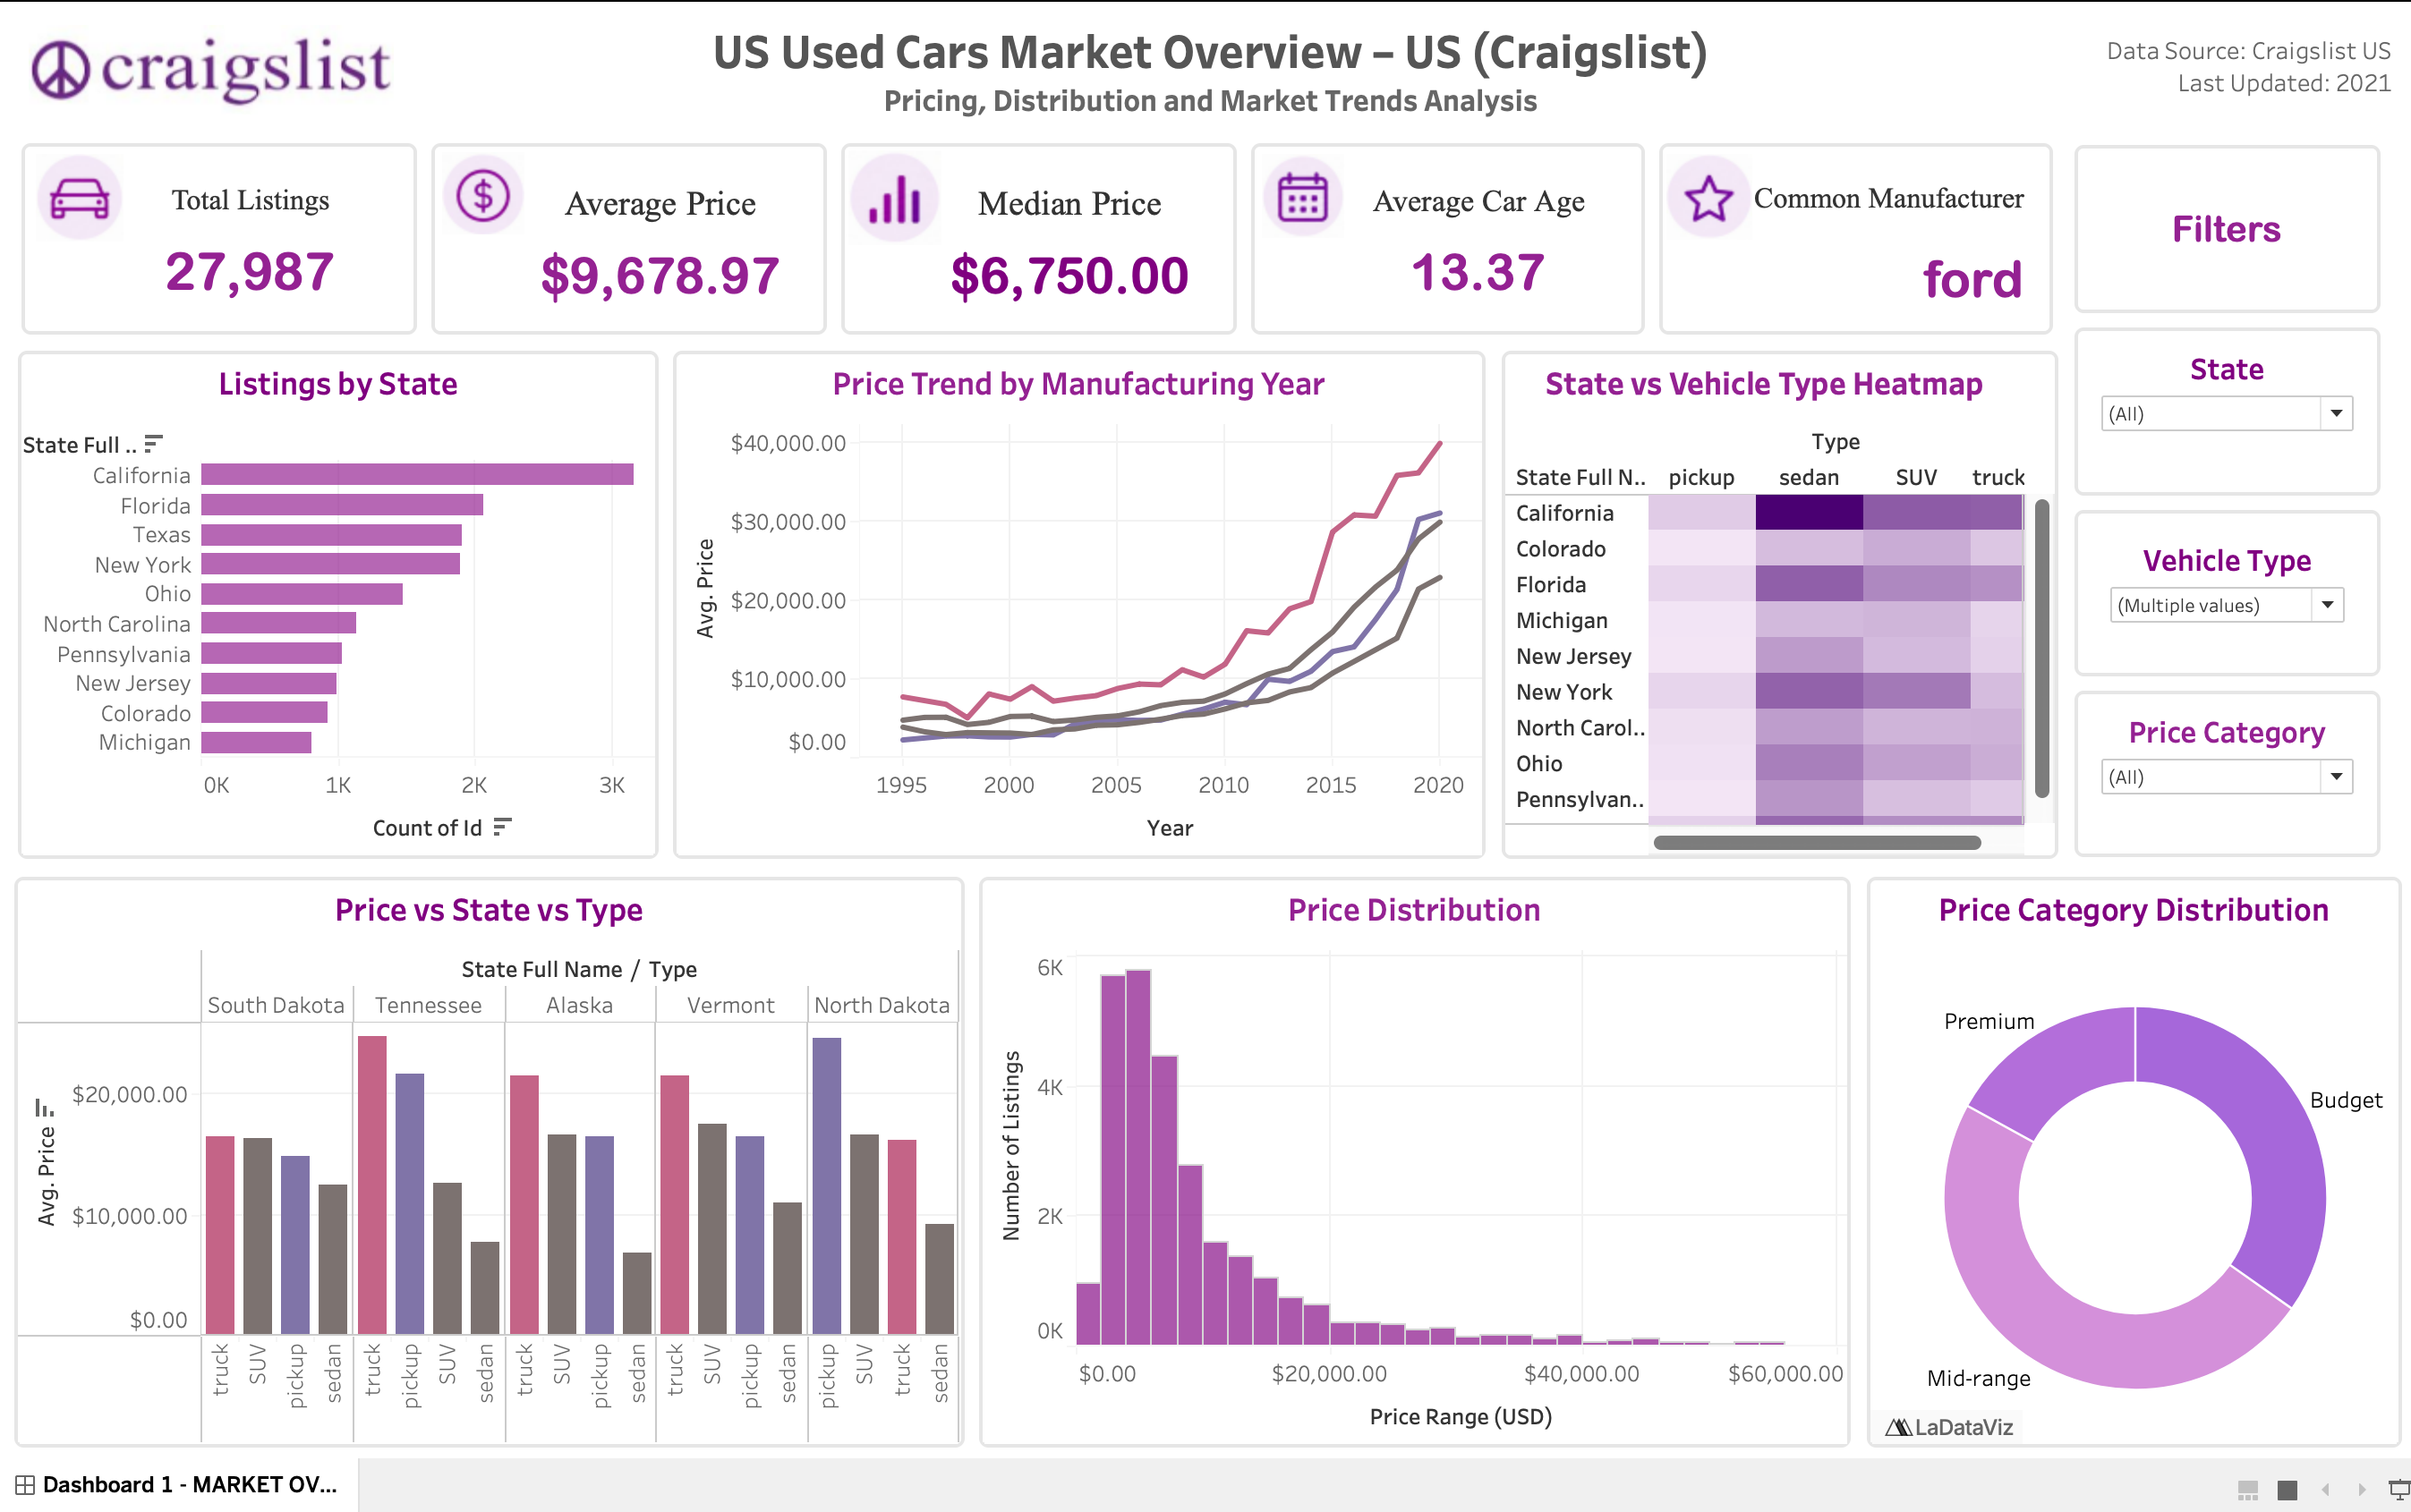

This screenshot's page, from the dashboard's own definition file:
{"tool":"tableau","page":{"name":"Dashboard 1 - MARKET OVERVIEW","canvas":[1000,1000],"units":"permille","ordinal":0},"visuals":[{"type":"text","box":[0.8,1.2,999.2,89.7]},{"type":"text","box":[816.8,7.5,173.7,73.5]},{"type":"image","box":[5.9,9.8,988.2,980.3]},{"type":"image","param":"Image/PHOTO-2026-04-28-11-33-36.jpg","box":[11.8,10,150.9,74.7]},{"type":"worksheet","title":"Total Listings","mark":"Automatic","box":[5.9,92.1,169.4,141.3]},{"type":"worksheet","title":"Average Price","mark":"Automatic","box":[175.3,92.1,169.4,141.3]},{"type":"worksheet","title":"Median Price","mark":"Automatic","box":[344.7,92.1,169.4,141.3]},{"type":"worksheet","title":"Average Car Age","mark":"Automatic","box":[514,92.1,168.6,141.3]},{"type":"worksheet","title":"Common Manufacturer","mark":"Automatic","box":[682.7,92.1,168.6,141.3]},{"type":"text","box":[854.3,93.4,132.4,125.3]},{"type":"image","param":"Image/WhatsApp Image 2026-04-28 at 13.28.17.jpeg","box":[350.9,101.5,46.6,65.3]},{"type":"image","param":"Image/WhatsApp Image 2026-04-28 at 13.27.53.jpeg","box":[182.7,102.7,37.5,57.2]},{"type":"image","param":"Image/WhatsApp Image 2026-04-28 at 13.27.31.jpeg","box":[14.5,103.9,37.5,60.7]},{"type":"image","param":"Image/WhatsApp Image 2026-04-28 at 13.28.37.jpeg","box":[521.4,105,36.7,57.2]},{"type":"image","param":"Image/WhatsApp Image 2026-04-28 at 13.28.55.jpeg","box":[688.8,105,37.5,59.5]},{"type":"image","param":"Image/PHOTO-2026-04-28-12-59-34.jpg","box":[670.6,114.6,56.5,98.4]},{"type":"filter","title":"Listings by State","param":"[federated.0viap53108bj6p1gal3fa1uzdc3r].[none:Calculation_1116000076914688:nk]","box":[854.3,218.7,132.4,125.3]},{"type":"worksheet","title":"Listings by State","mark":"Automatic","rows":["Calculation_1116000076914688"],"cols":["id"],"box":[4.6,234.5,270.7,358.2]},{"type":"worksheet","title":"Price Trend by Manufacturing Year","mark":"Line","rows":["price"],"cols":["year"],"box":[275.3,234.5,342,358.2]},{"type":"worksheet","title":"State vs Vehicle Type Heatmap","mark":"Automatic","rows":["Calculation_1116000076914688"],"cols":["type"],"box":[617.3,234.5,236,358.2]},{"type":"filter","title":"Price vs State vs Type","param":"[federated.0viap53108bj6p1gal3fa1uzdc3r].[none:type:nk]","box":[854.3,344,132.4,124.1]},{"type":"filter","title":"Price Category Distribution","param":"[federated.0viap53108bj6p1gal3fa1uzdc3r].[none:price_category:nk]","box":[854.3,468.1,132.4,124.1]},{"type":"worksheet","title":"Price vs State vs Type","mark":"Automatic","rows":["price"],"cols":["Calculation_1116000076914688","type"],"box":[3.1,595.3,398.7,402.2]},{"type":"worksheet","title":"Price Distribution","mark":"Automatic","rows":["id"],"cols":["Price (bin)"],"box":[401.8,595.3,366.4,402.2]},{"type":"worksheet","title":"Price Category Distribution","box":[768.2,595.3,227.1,402.2]}]}

Visuals, with their boxes on the dashboard's canvas, which has no fixed pixel size, in thousandths of its width and height (x1, y1, x2, y2). These are canvas units, not pixel positions in the 2411x1512 screenshot, which may show the page scaled, cropped or inside an application window:
text: Rect(1, 1, 1000, 91)
text: Rect(817, 8, 990, 81)
image: Rect(6, 10, 994, 990)
image: Rect(12, 10, 163, 85)
"Total Listings" worksheet: Rect(6, 92, 175, 233)
"Average Price" worksheet: Rect(175, 92, 345, 233)
"Median Price" worksheet: Rect(345, 92, 514, 233)
"Average Car Age" worksheet: Rect(514, 92, 683, 233)
"Common Manufacturer" worksheet: Rect(683, 92, 851, 233)
text: Rect(854, 93, 987, 219)
image: Rect(351, 102, 398, 167)
image: Rect(183, 103, 220, 160)
image: Rect(14, 104, 52, 165)
image: Rect(521, 105, 558, 162)
image: Rect(689, 105, 726, 164)
image: Rect(671, 115, 727, 213)
"Listings by State" filter: Rect(854, 219, 987, 344)
"Listings by State" worksheet: Rect(5, 234, 275, 593)
"Price Trend by Manufacturing Year" worksheet (Line marks): Rect(275, 234, 617, 593)
"State vs Vehicle Type Heatmap" worksheet: Rect(617, 234, 853, 593)
"Price vs State vs Type" filter: Rect(854, 344, 987, 468)
"Price Category Distribution" filter: Rect(854, 468, 987, 592)
"Price vs State vs Type" worksheet: Rect(3, 595, 402, 998)
"Price Distribution" worksheet: Rect(402, 595, 768, 998)
"Price Category Distribution" worksheet: Rect(768, 595, 995, 998)
